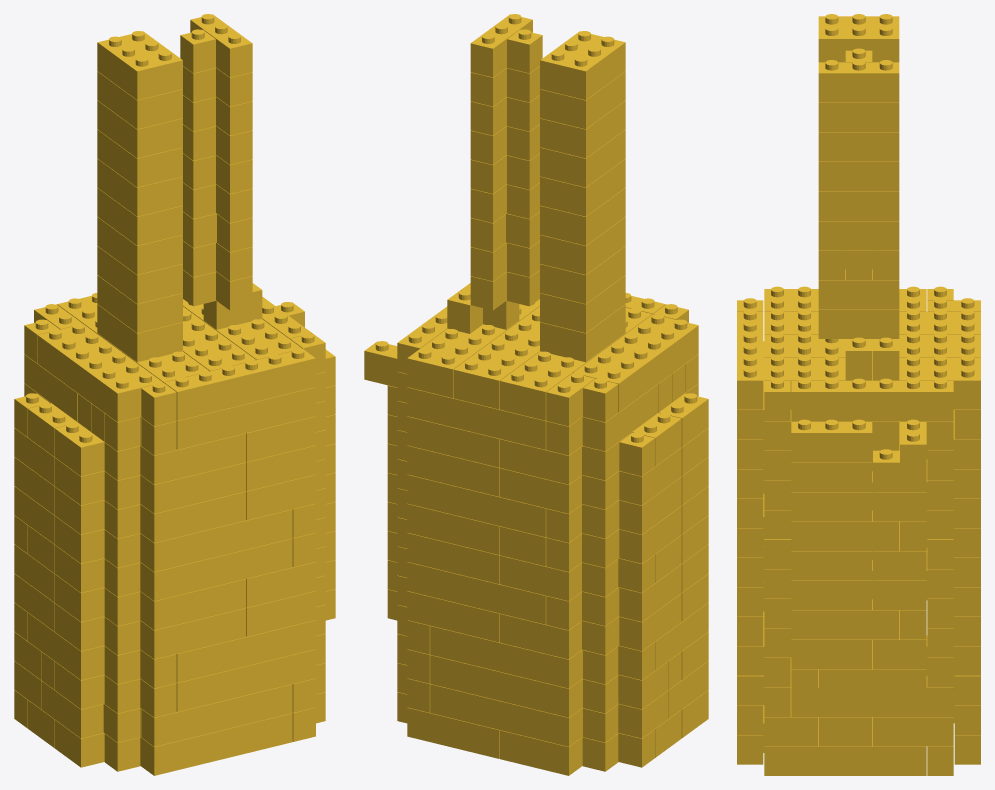
The picture shows the model from 3 angles, left to right: view 1: azimuth 30°, elevation 25°; view 2: azimuth 150°, elevation 25°; view 3: azimuth 270°, elevation 25°; orthographic projection.
Parts seen in each view (by area): view 1: camera_L2_P1_S71107; view 2: camera_L2_P1_S71107; view 3: camera_L2_P1_S71107.
Part boxes in pixels (x1,y1,x2,y2): camera_L2_P1_S71107: (14,14,335,775); camera_L2_P1_S71107: (364,14,708,775); camera_L2_P1_S71107: (737,14,980,775).
Size of the model in its own units: 11.97 by 27.79 by 8.97.
